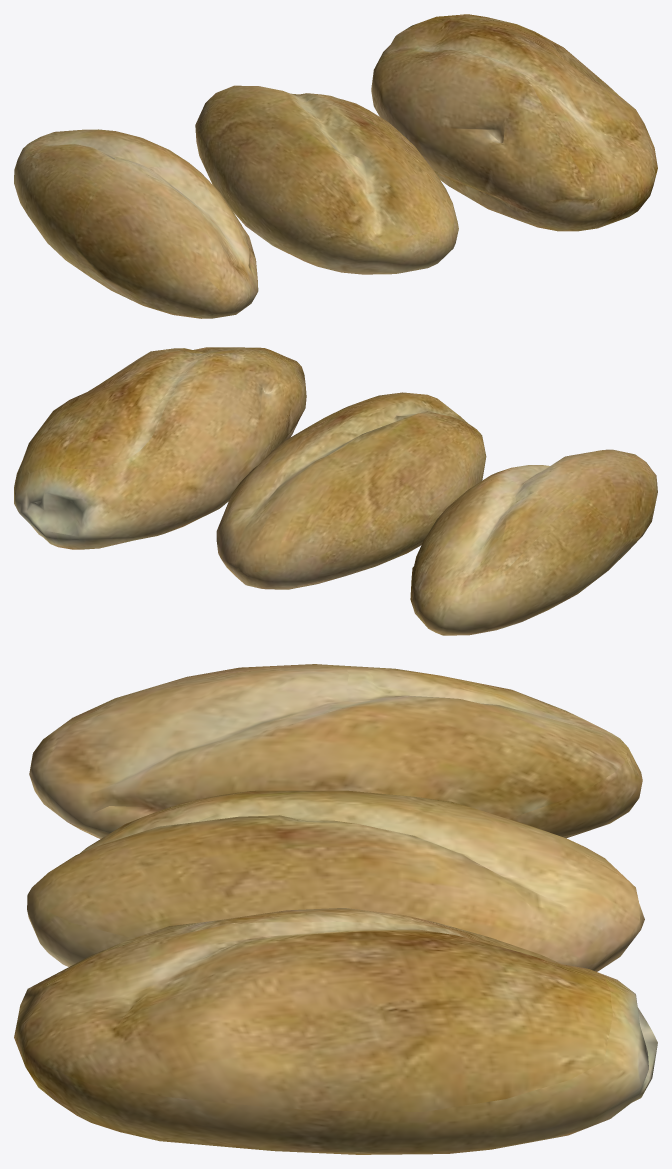
The model's file is chleb_bochenki.glb.
3 views of the same model, one above another, from view 1: azimuth 30°, elevation 25°; view 2: azimuth 150°, elevation 25°; view 3: azimuth 270°, elevation 25° (orthographic). The views are drawn at different scales.
Visible parts, largest first — view 1: chleb_bochenki; view 2: chleb_bochenki; view 3: chleb_bochenki.
Part boxes in pixels (x1,y1,x2,y2): chleb_bochenki: (14, 14, 657, 318); chleb_bochenki: (14, 347, 657, 635); chleb_bochenki: (14, 664, 657, 1154).
Bounding box in the file's own units: 0.4025 × 0.0832 × 0.2712.
Materials: 1 (1 with a texture image).
